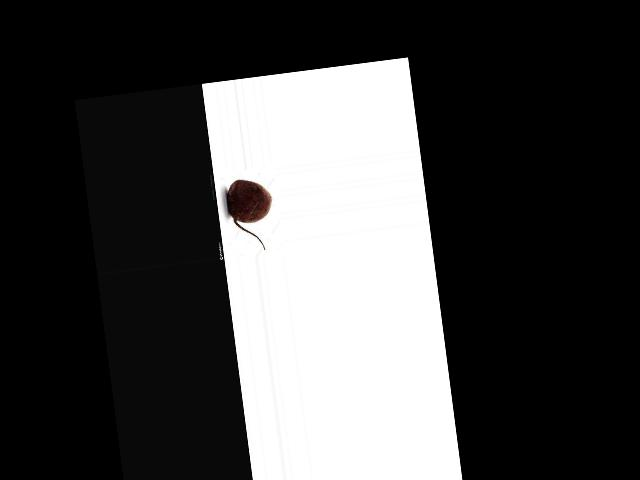beet: (224, 175, 277, 253)
